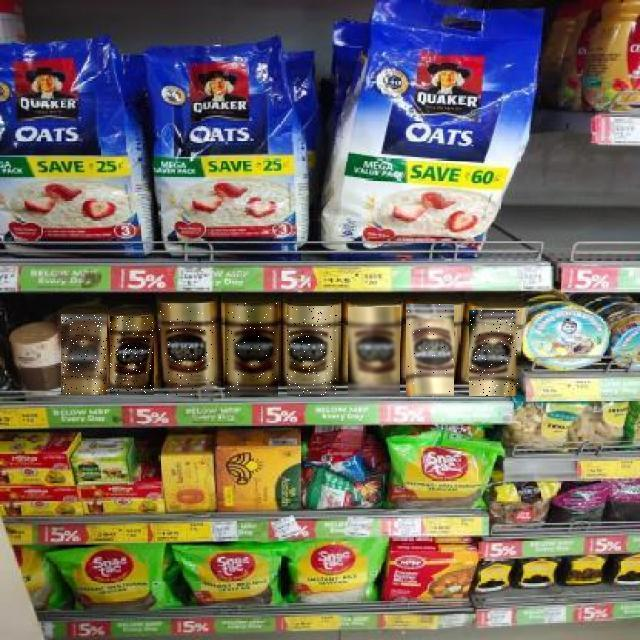Coffee: (158, 304, 214, 396), (225, 303, 278, 397), (348, 307, 400, 396), (288, 306, 338, 396), (406, 304, 454, 396), (470, 310, 520, 396), (61, 314, 107, 395), (111, 316, 155, 395)
